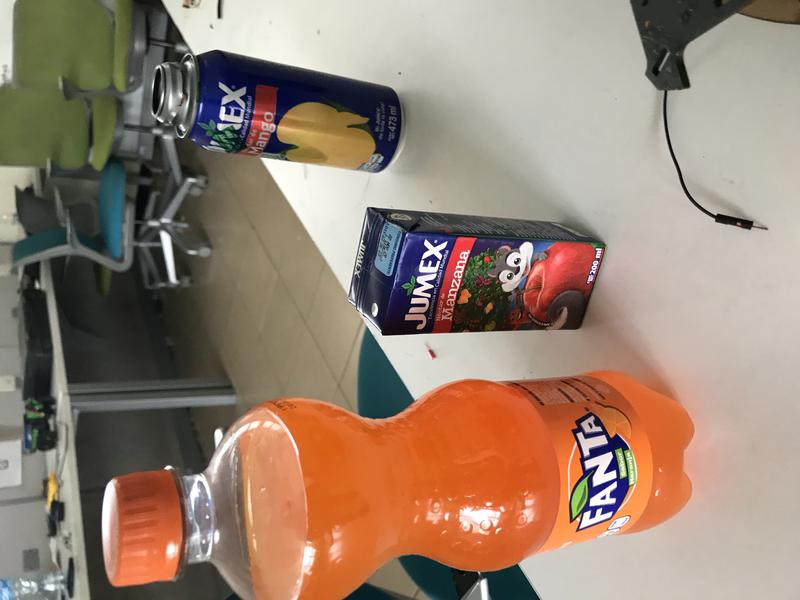fanta: (101, 371, 695, 600)
jumex_botella: (149, 49, 405, 172)
jumex_cajita: (348, 207, 607, 338)
